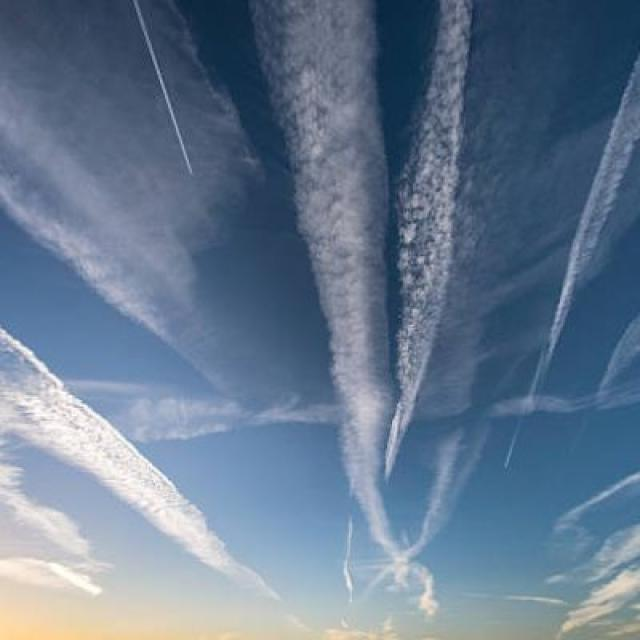Ct: (1, 40, 640, 543)
